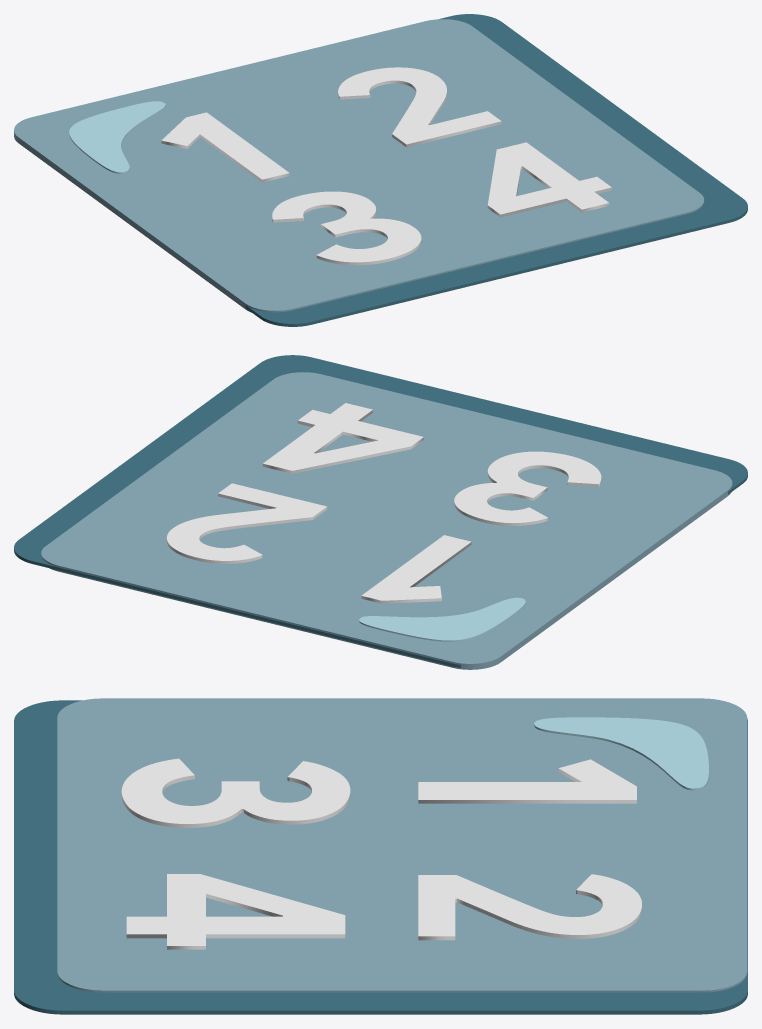
The model's file is emoji_u1f522.glb.
The picture shows the model from 3 angles, top to bottom: view 1: azimuth 30°, elevation 25°; view 2: azimuth 150°, elevation 25°; view 3: azimuth 270°, elevation 25°; orthographic projection. The views are drawn at different scales.
Parts seen in each view (by area): view 1: emoji_u1f522; view 2: emoji_u1f522; view 3: emoji_u1f522.
Part boxes in pixels (x1,y1,x2,y2): emoji_u1f522: [14, 14, 747, 326]; emoji_u1f522: [14, 355, 747, 669]; emoji_u1f522: [14, 698, 747, 1014].
Bounding box in the file's own units: 0.0339 × 0.0008 × 0.0339.
